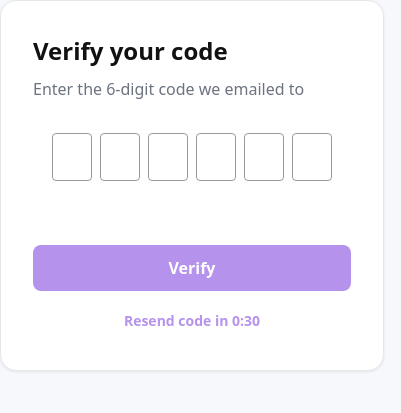
VerifyPanel › rate-limited sets cooldown from retryAfterSecs
Type "555555" into the field with test id "otp-0" at (72, 157), box [52,133,92,181]
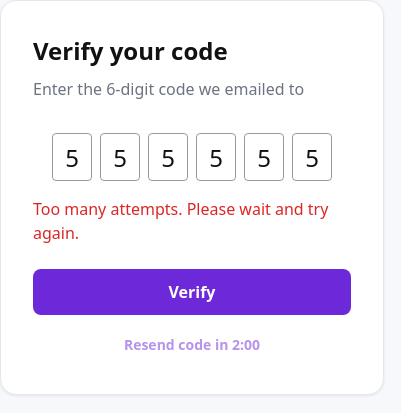
Expected: the button "Resend code in 2:00" is disabled, [33,327,351,362]
Result: the message "Too many attempts. Please wait and try again." is shown at [33,197,351,245]
Result: the button "Resend code in 2:00" is shown at [33,327,351,362]
